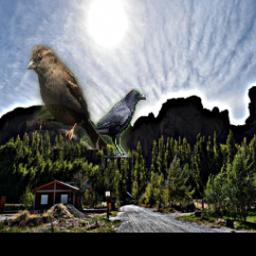Crow: (80, 89, 146, 158)
Sparrow: (26, 44, 107, 149)
